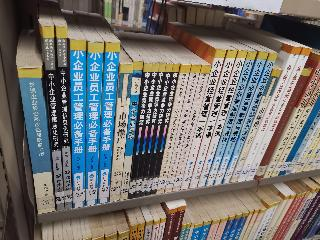book-spine: (235, 44, 303, 185), (245, 45, 312, 183), (219, 50, 279, 187), (213, 49, 269, 188), (185, 48, 238, 191), (205, 49, 257, 189), (252, 66, 314, 183), (177, 46, 227, 191), (262, 56, 320, 180), (197, 48, 248, 189), (228, 67, 283, 185), (16, 65, 56, 216), (267, 73, 320, 180), (162, 63, 202, 194), (171, 63, 211, 193), (154, 63, 191, 196), (41, 24, 66, 212), (94, 41, 121, 205), (80, 41, 104, 208), (144, 62, 173, 197), (151, 62, 180, 195), (133, 61, 160, 199), (66, 39, 88, 208), (107, 63, 133, 204), (140, 63, 167, 198), (118, 60, 143, 202), (127, 63, 152, 200), (279, 98, 320, 178), (56, 25, 73, 210)
